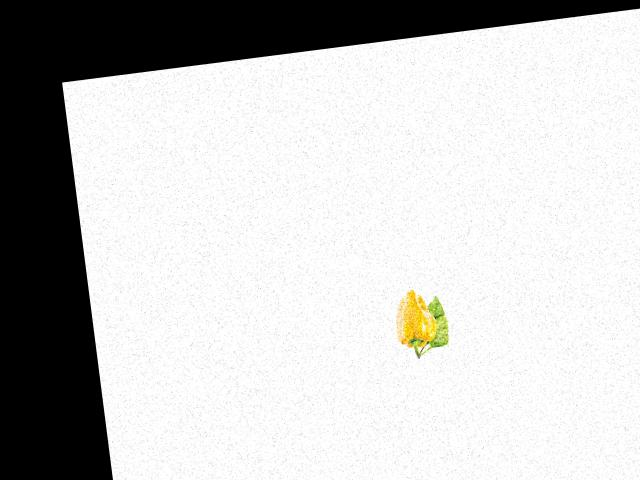bell_pepper: (388, 285, 441, 362)
